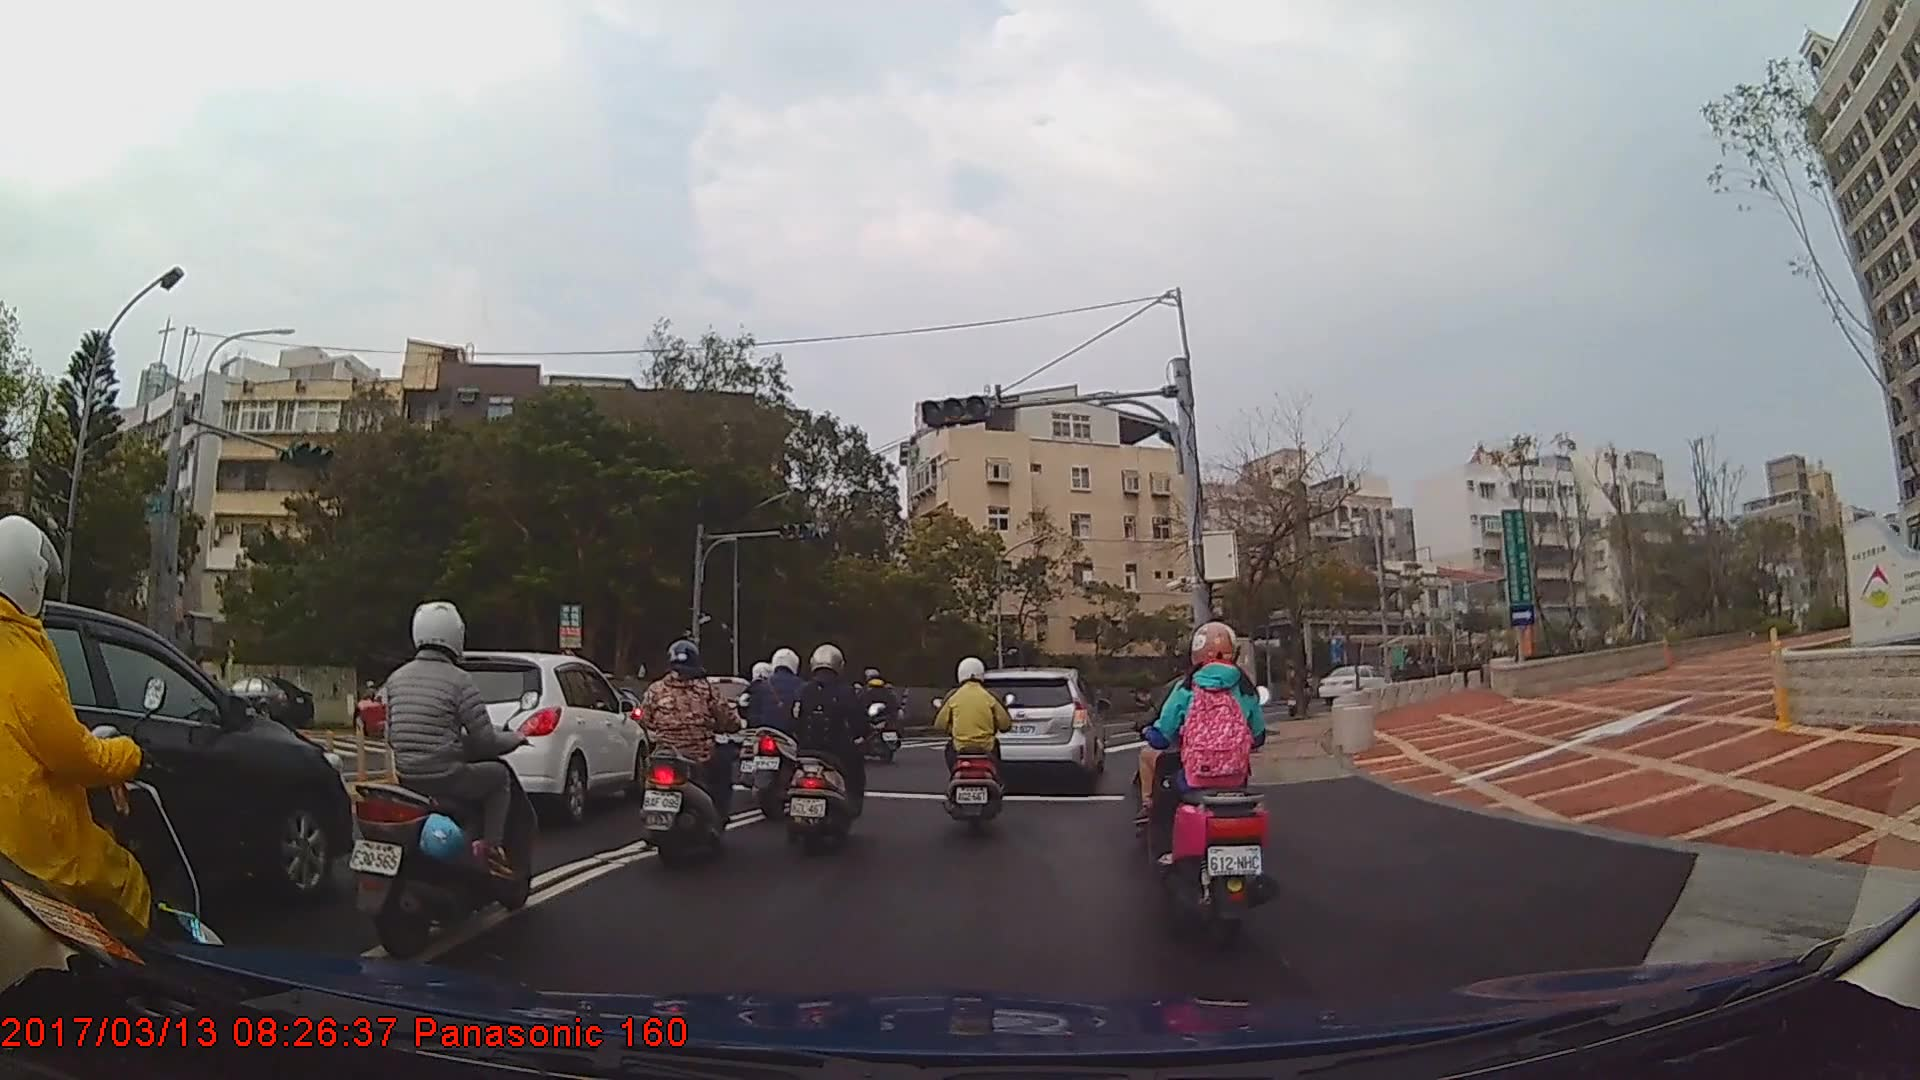rider: (1, 515, 218, 1045), (354, 600, 547, 955), (1145, 619, 1273, 926), (632, 641, 748, 876), (780, 643, 876, 858), (931, 660, 1021, 833), (746, 646, 819, 817), (735, 665, 793, 804), (846, 667, 906, 766)
vehicle: (0, 595, 351, 933), (391, 650, 649, 828), (964, 666, 1104, 787), (209, 674, 313, 731), (352, 677, 454, 735), (1319, 664, 1390, 707)
